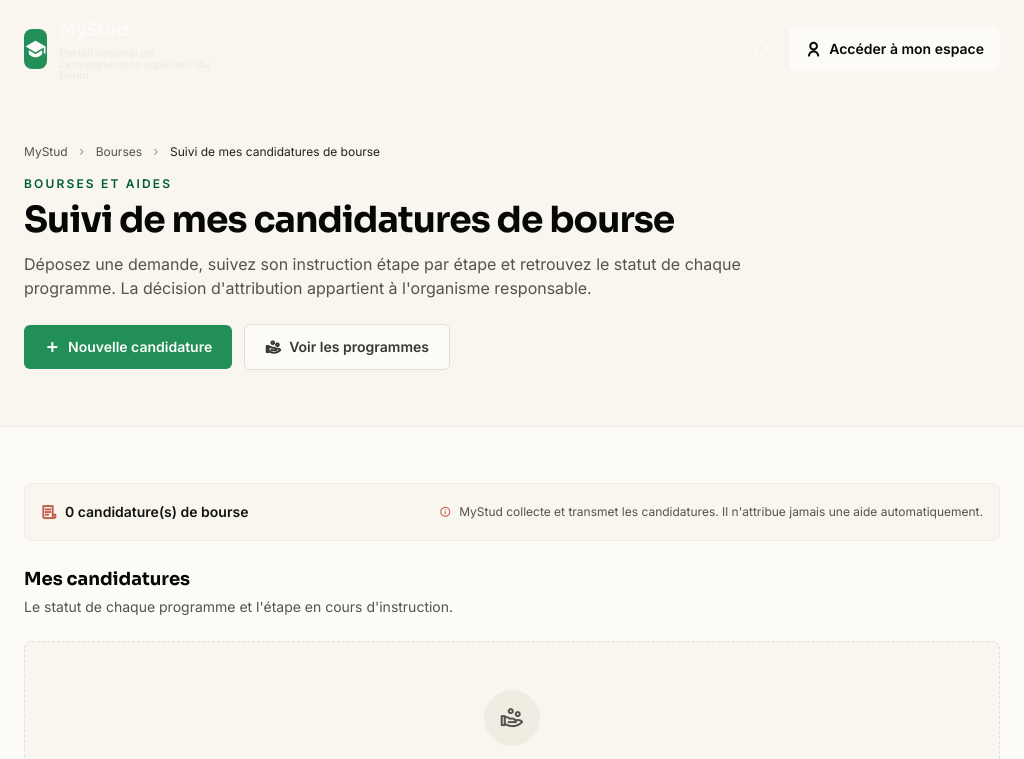
BourseSuivi › submitting the wizard persists the candidature and shows it in the list
Step 1. Click the button "Nouvelle candidature" → (128, 347), box [24,325,232,369]
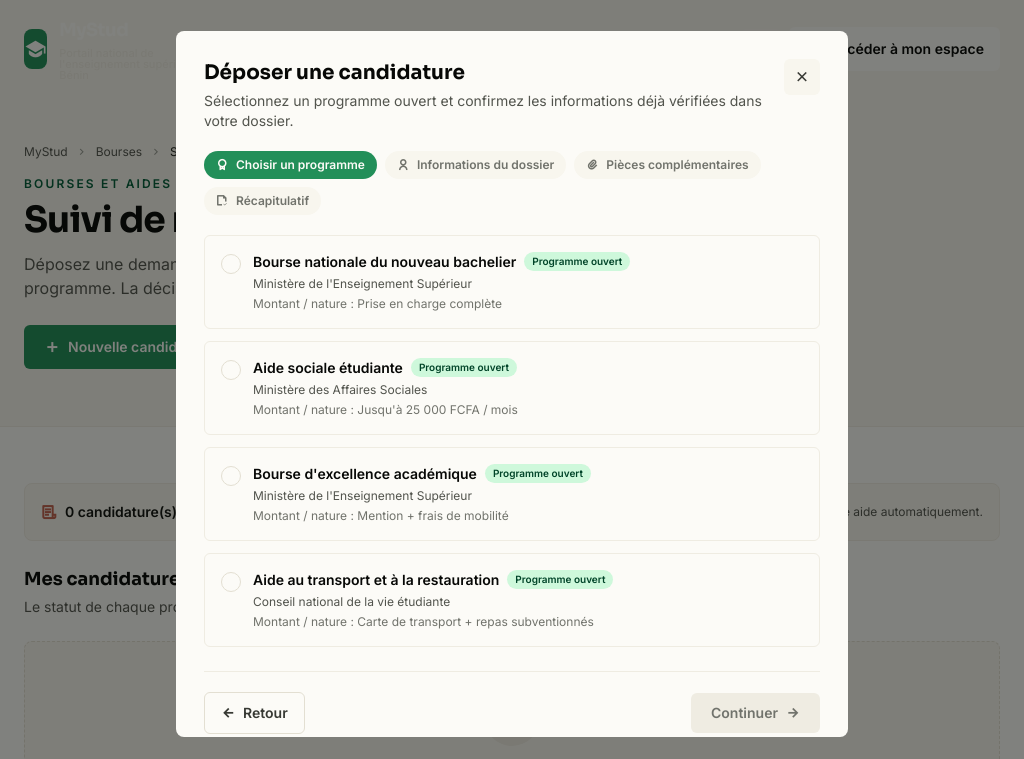
Step 2. Click the text "Aide sociale étudiante" → (328, 368), box [253,358,403,378]
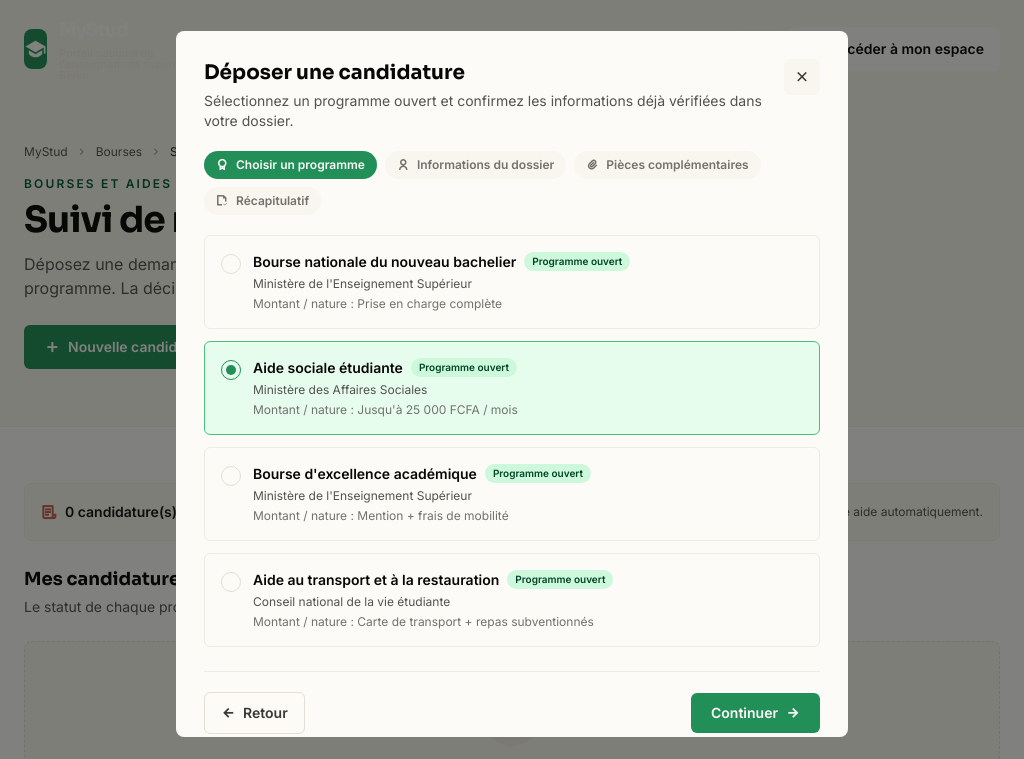
Step 3. Click the button "Continuer" → (756, 713), box [691,693,820,733]
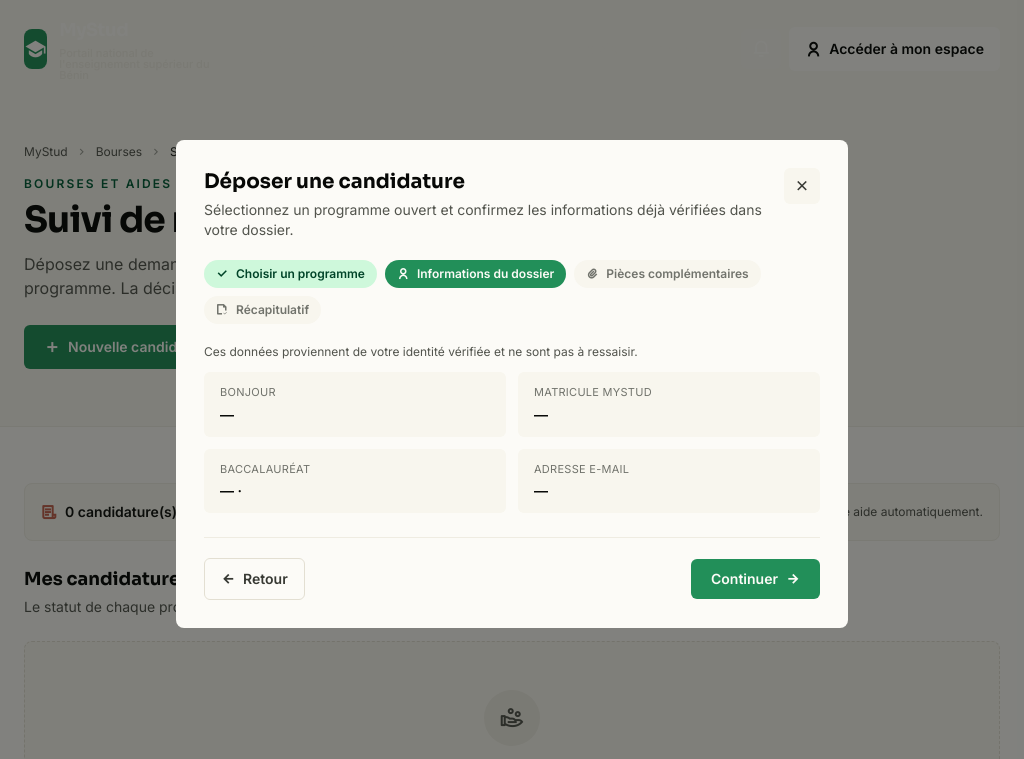
Step 4. Click the button "Continuer" → (756, 579), box [691,559,820,599]
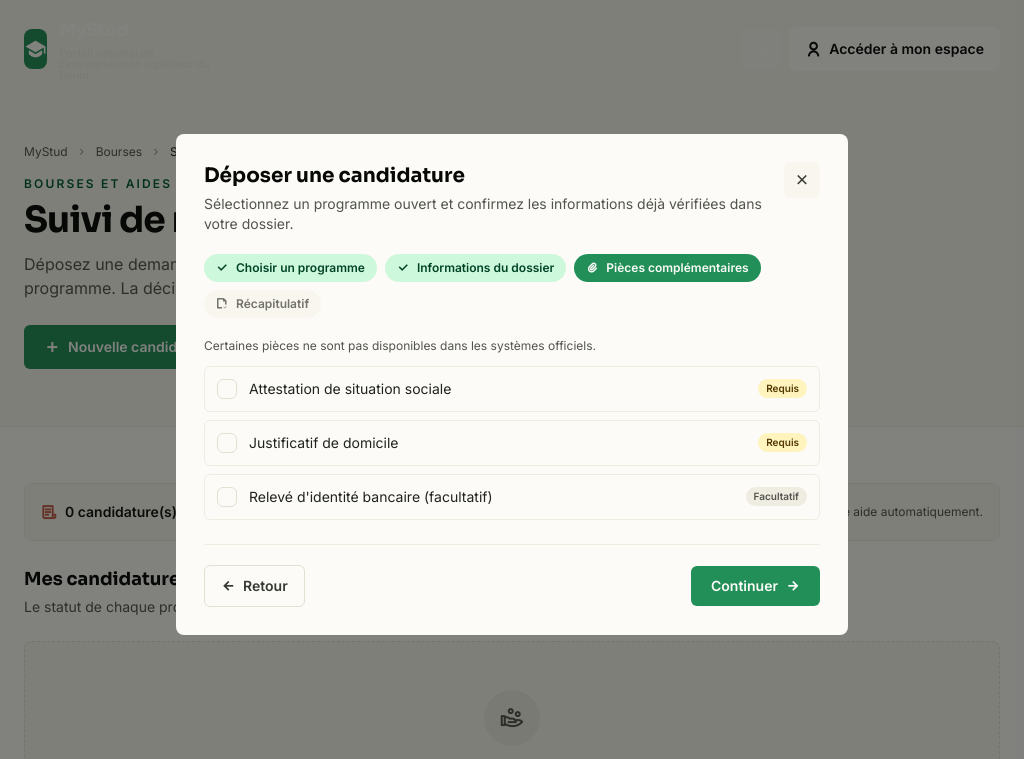
Step 5. Click the button "Continuer" → (756, 586), box [691,566,820,606]
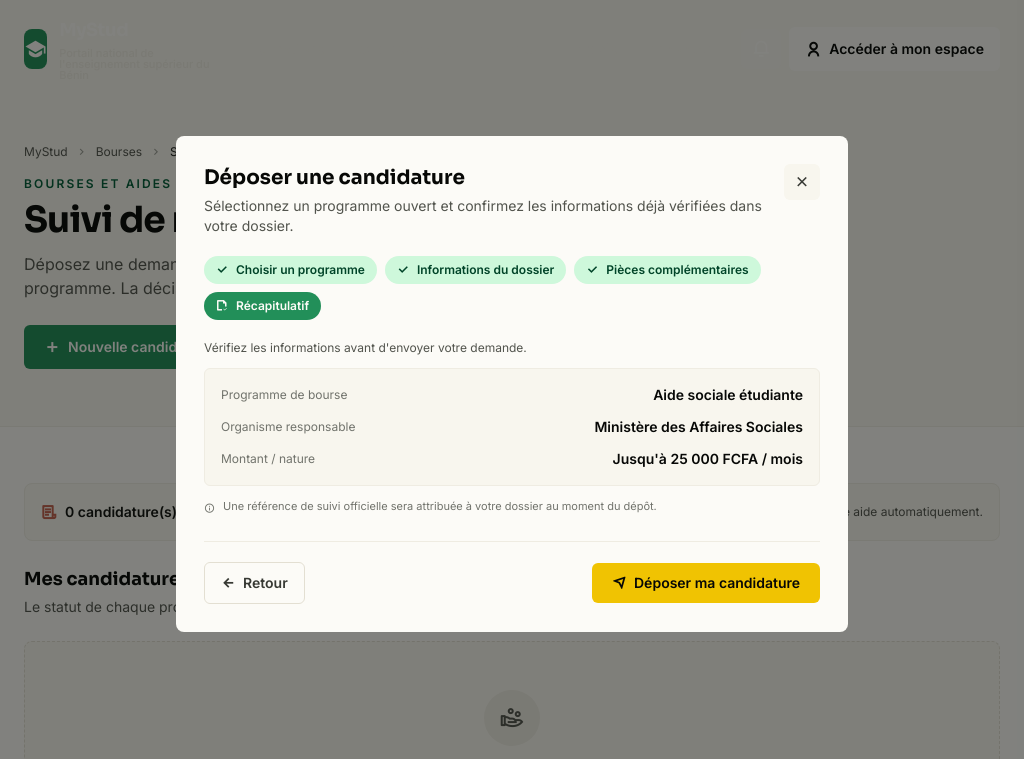
Step 6. Click the button "Déposer ma candidature" → (706, 583), box [592,563,820,603]
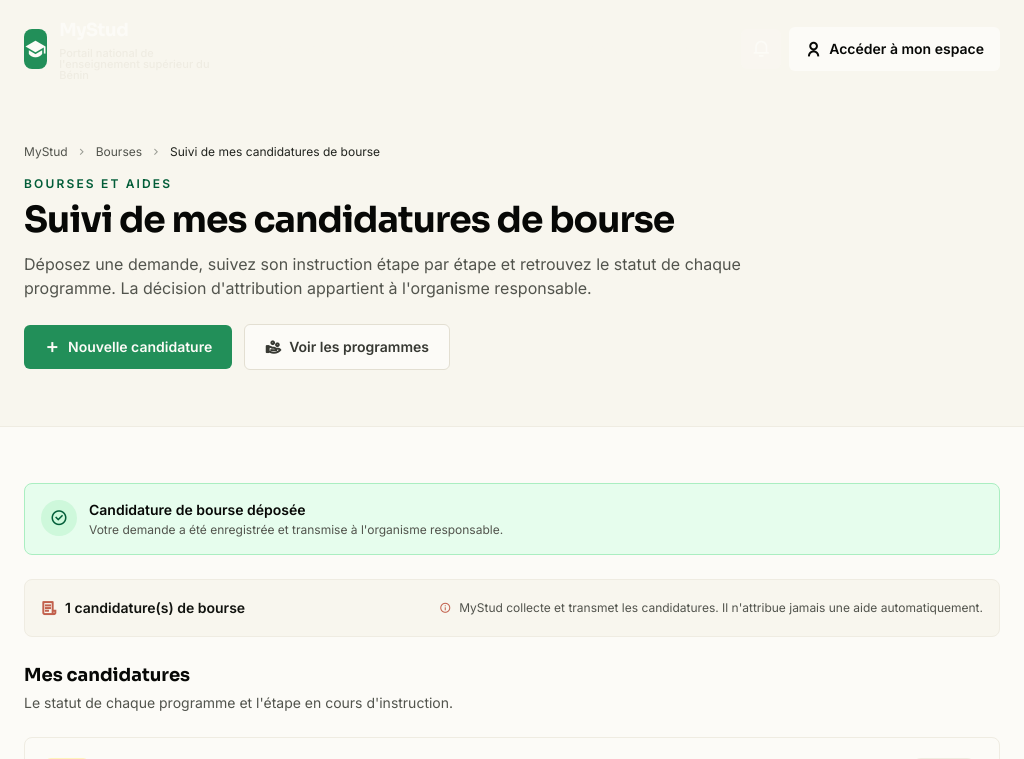
Expected: the text "Candidature de bourse déposée" is shown, [89,501,306,518]
